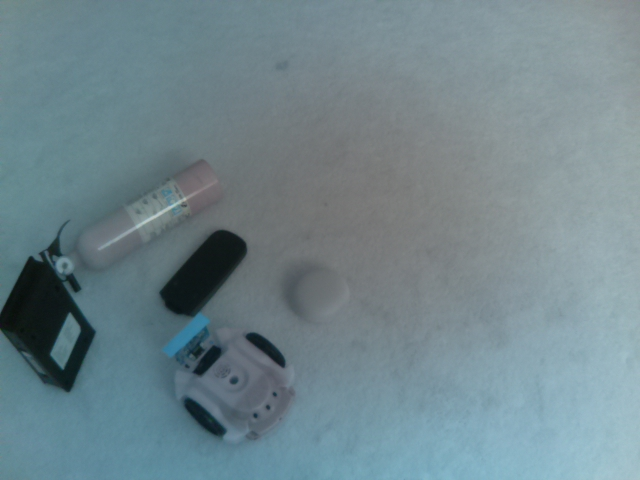board: (157, 312, 212, 364)
chassis: (154, 305, 316, 453)
